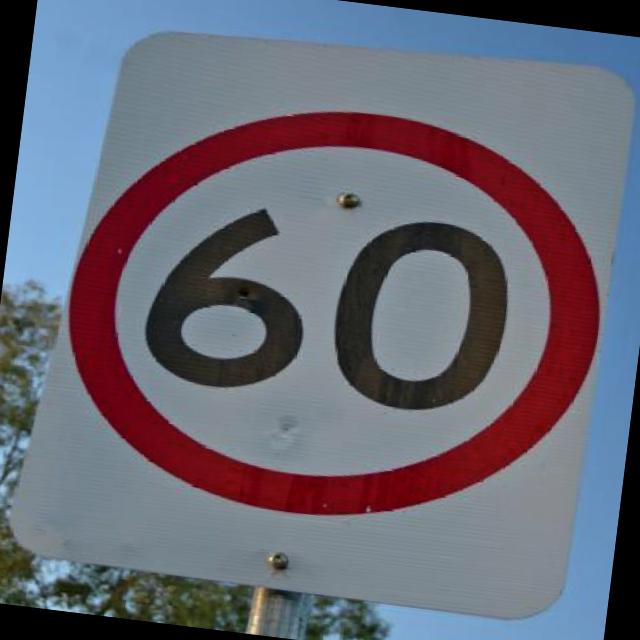Ograniczenie predkosci do 60: (93, 136, 592, 514)
